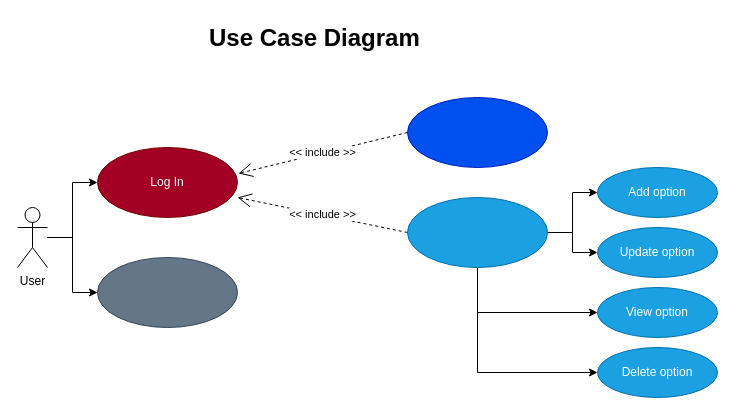
Image size: 735x415. Some labels were removed from this diagram. The box of each missing label's shape, as (x1, y1, x2, y2) in pixels:
Compute option: (406, 96, 548, 168)
Manage option: (406, 196, 548, 268)
View exchange data: (96, 256, 238, 328)
